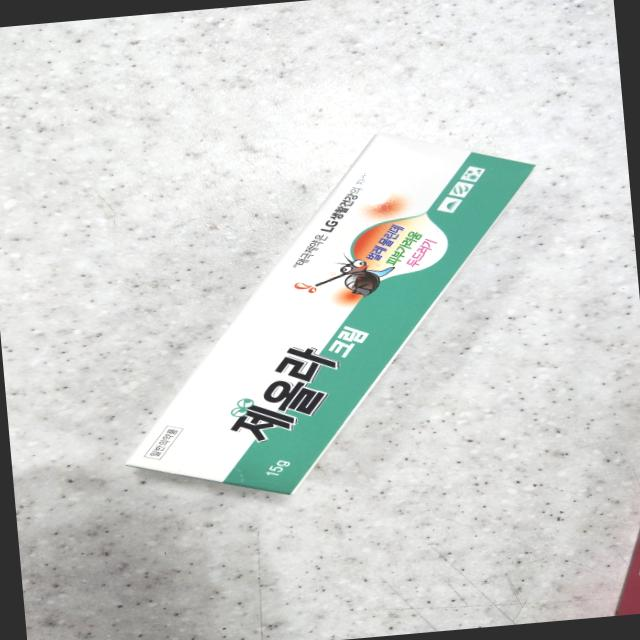box: (100, 121, 561, 506)
